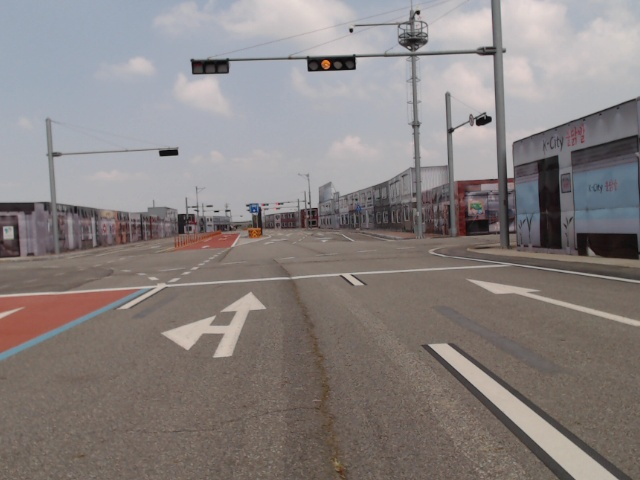orange_4: (306, 56, 357, 71)
